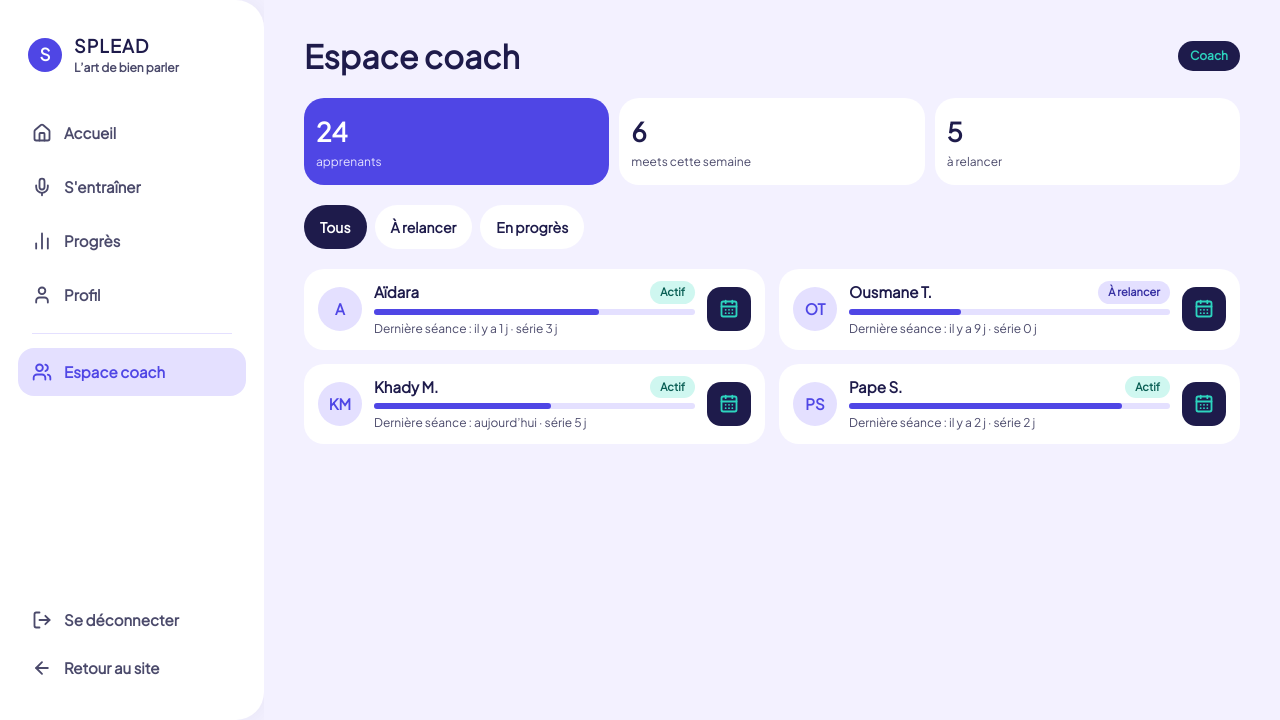
Test: espace coach › filtre les apprenants
expect the number of list items is 4: met, box [304,269,765,350]; [779,269,1240,350]; [304,364,765,444]; [779,364,1240,444]
Click the button "À relancer" at (423, 227), box [374,205,472,249]
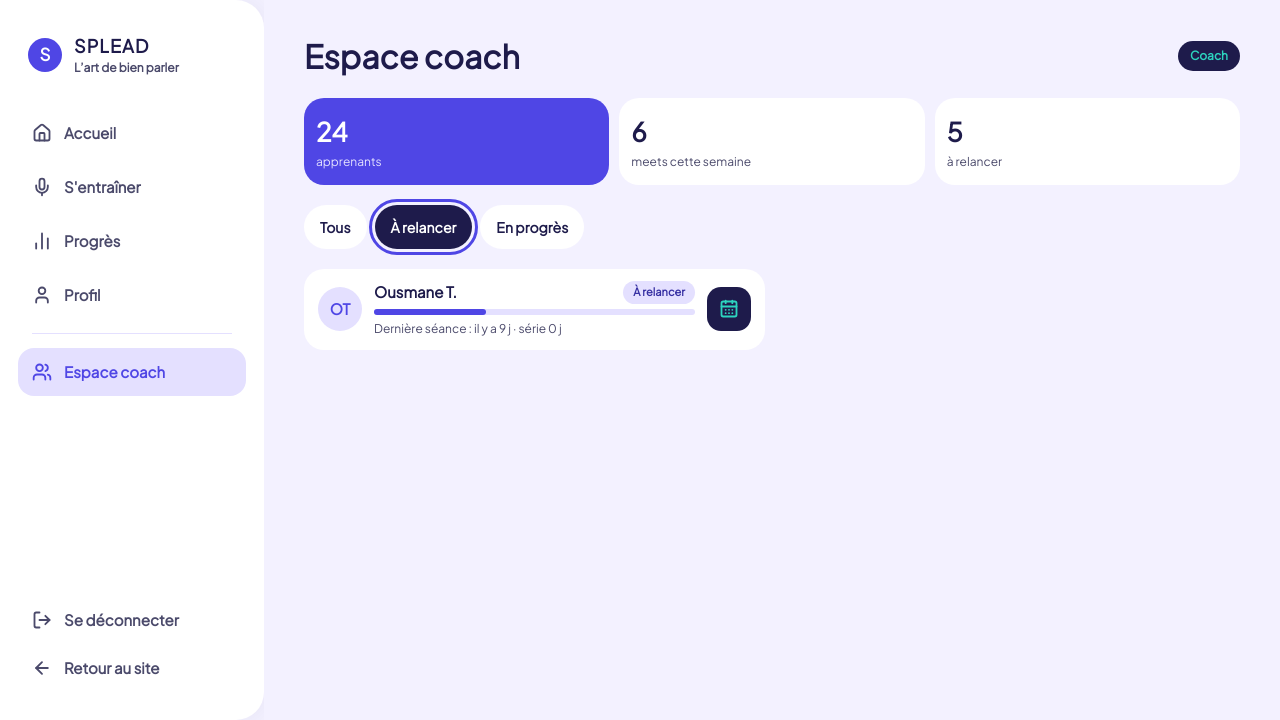
expect the number of list items is 1: met, box [304,269,765,350]
